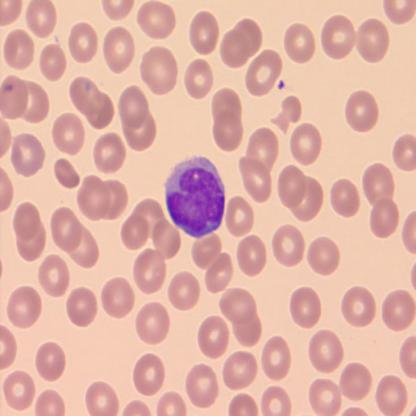Monocyte: (163, 155, 227, 240)
